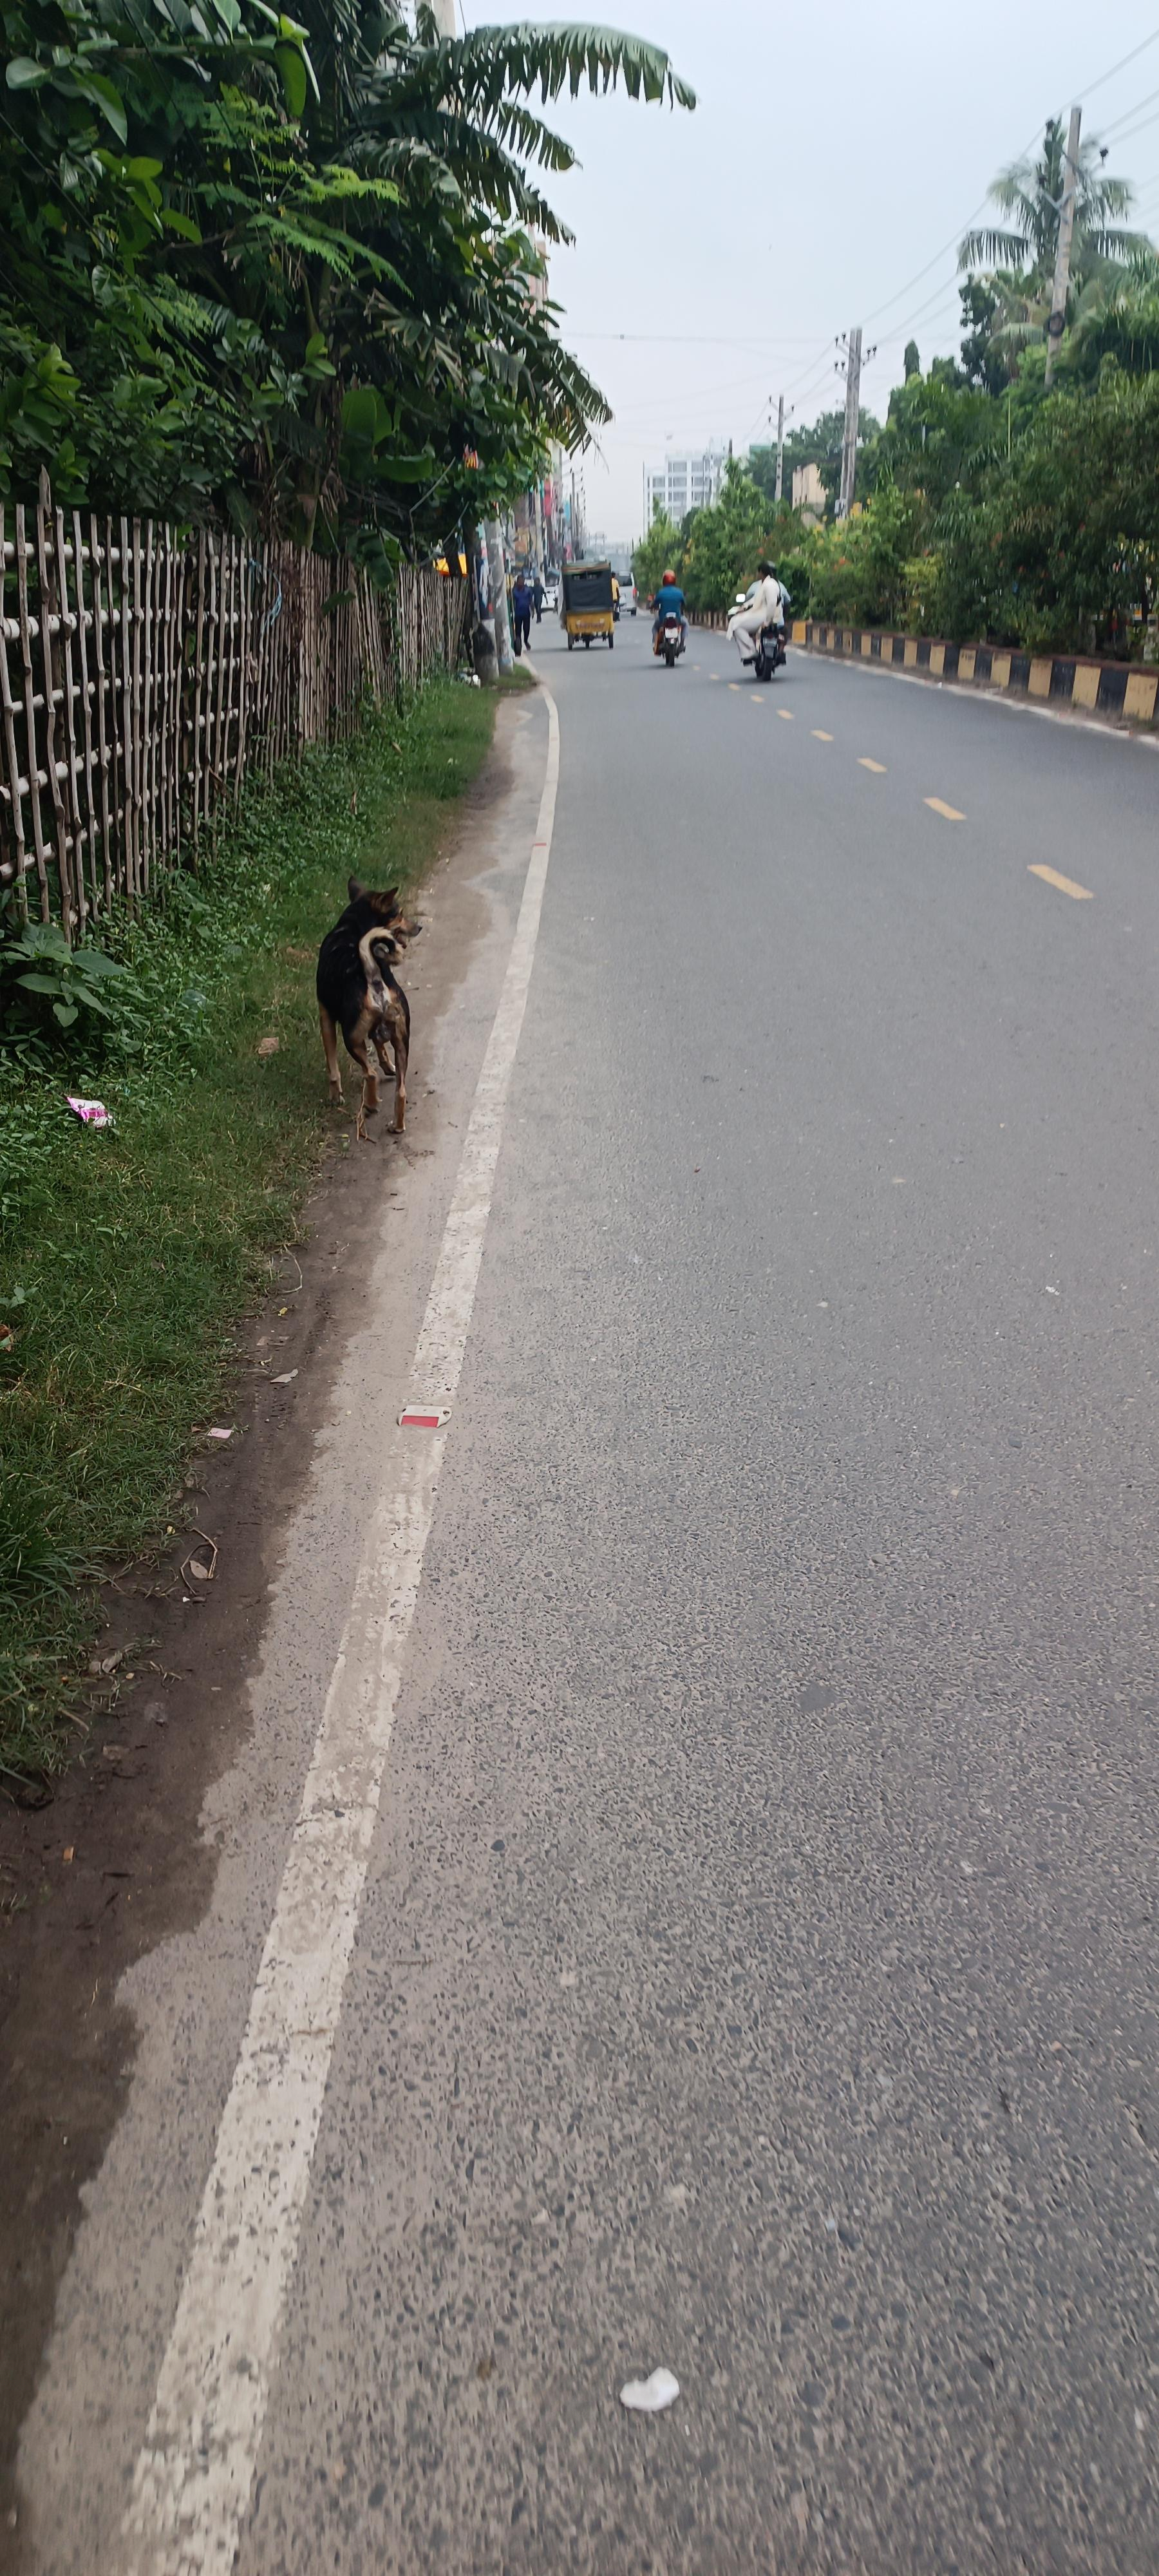Crosswalk: (315, 873, 426, 1142)
Fallen-tree: (651, 608, 688, 667)
Garbage-bin: (729, 561, 791, 661), (650, 571, 688, 652), (509, 571, 536, 654)
